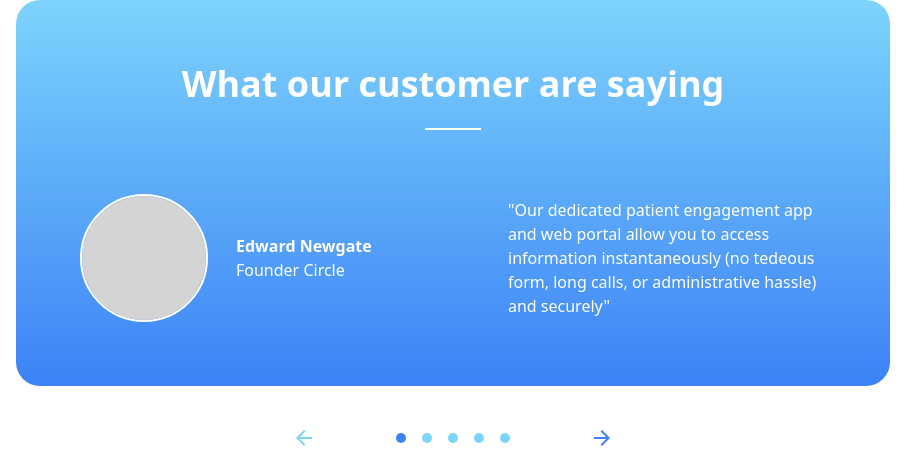
Test: <Depoiments /> › should render next step when arrow forward is clicked
This screenshot has width=907, height=467.
Click the icon with test id "depoiments-arrow__id-arrowForward": x=602, y=438 [590,426,614,450]
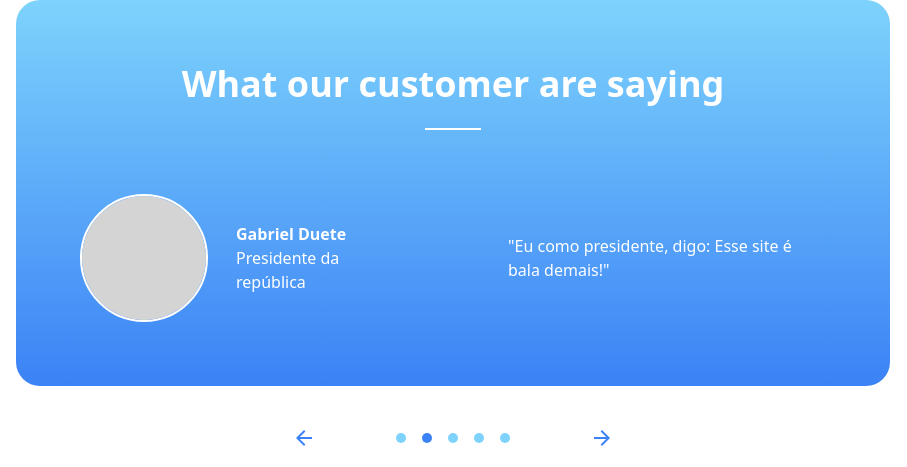
Result: the text "Presidente da república" is shown at [236,247,339,293]
